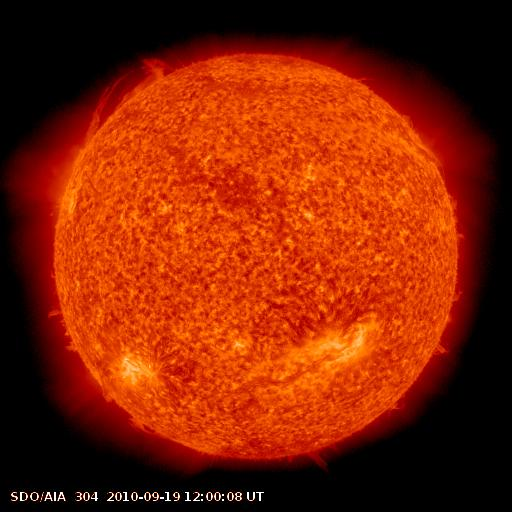prominence: (74, 48, 186, 144), (37, 274, 87, 360), (399, 109, 450, 183), (442, 222, 469, 308), (376, 381, 423, 430), (280, 438, 343, 474), (121, 410, 172, 445), (90, 379, 126, 415), (425, 332, 456, 363)
